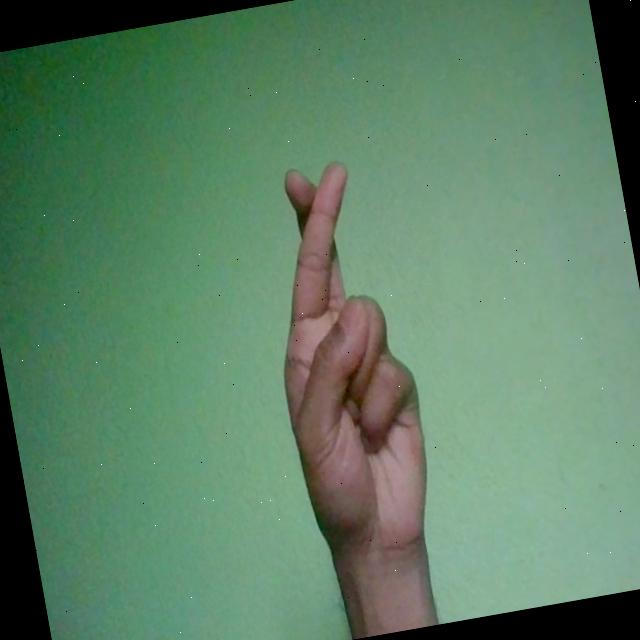Ok: (248, 152, 447, 570)
